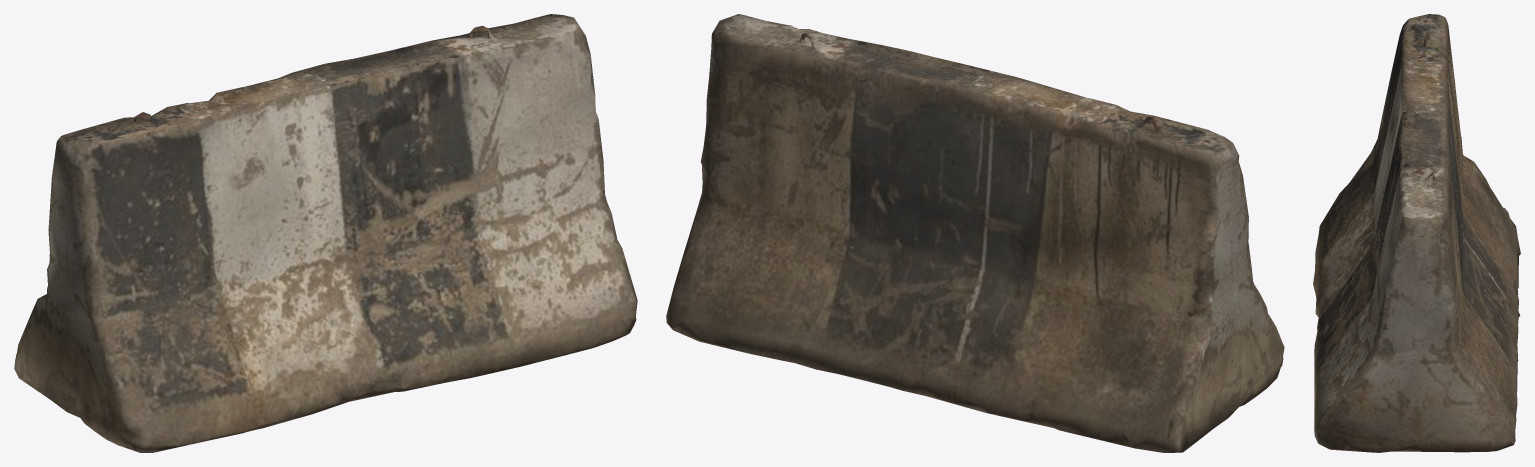
The model's file is concrete_road_barrier.glb.
3 views of the same model, side by side, from view 1: azimuth 30°, elevation 25°; view 2: azimuth 150°, elevation 25°; view 3: azimuth 270°, elevation 25° (orthographic). The views are drawn at different scales.
Visible parts, largest first — view 1: concrete_road_barrier; view 2: concrete_road_barrier; view 3: concrete_road_barrier.
Boxes of the visible parts, x1,y1,x2,y2 form: concrete_road_barrier: (14,14,637,452); concrete_road_barrier: (666,14,1284,452); concrete_road_barrier: (1313,14,1520,452).
Bounding box in the file's own units: 1.54 × 0.8296 × 0.6387.
1 material, 1 textured.
